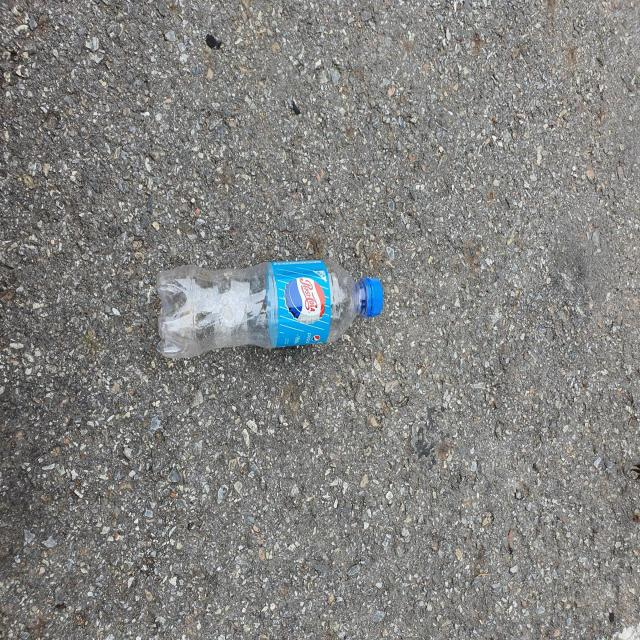plastic: (156, 259, 384, 358)
